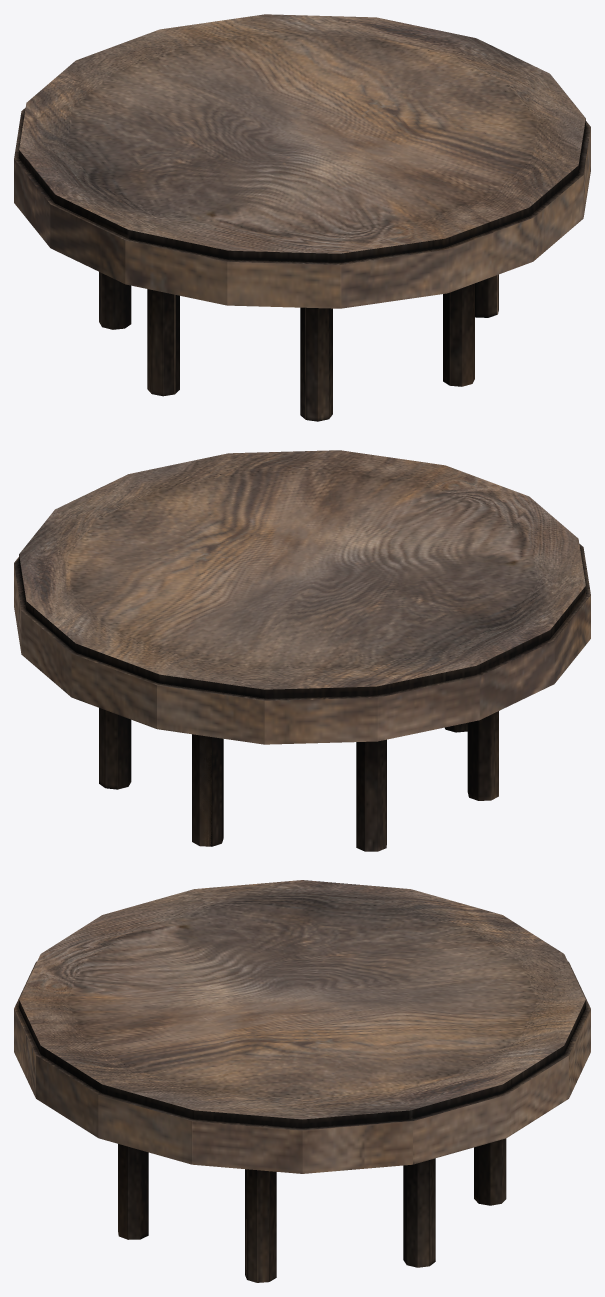
File: Table.gltf
3 views of the same model, one above another, from view 1: azimuth 30°, elevation 25°; view 2: azimuth 150°, elevation 25°; view 3: azimuth 270°, elevation 25° (orthographic).
Visible parts, largest first — view 1: Coffee Table; view 2: Coffee Table; view 3: Coffee Table.
Boxes of the visible parts, left/top/right/bottom form: Coffee Table: left=14, top=14, right=590, bottom=421; Coffee Table: left=14, top=450, right=590, bottom=851; Coffee Table: left=14, top=880, right=590, bottom=1282.
Bounding box in the file's own units: 1.85 × 0.704 × 1.85.
1 material, 1 textured.
